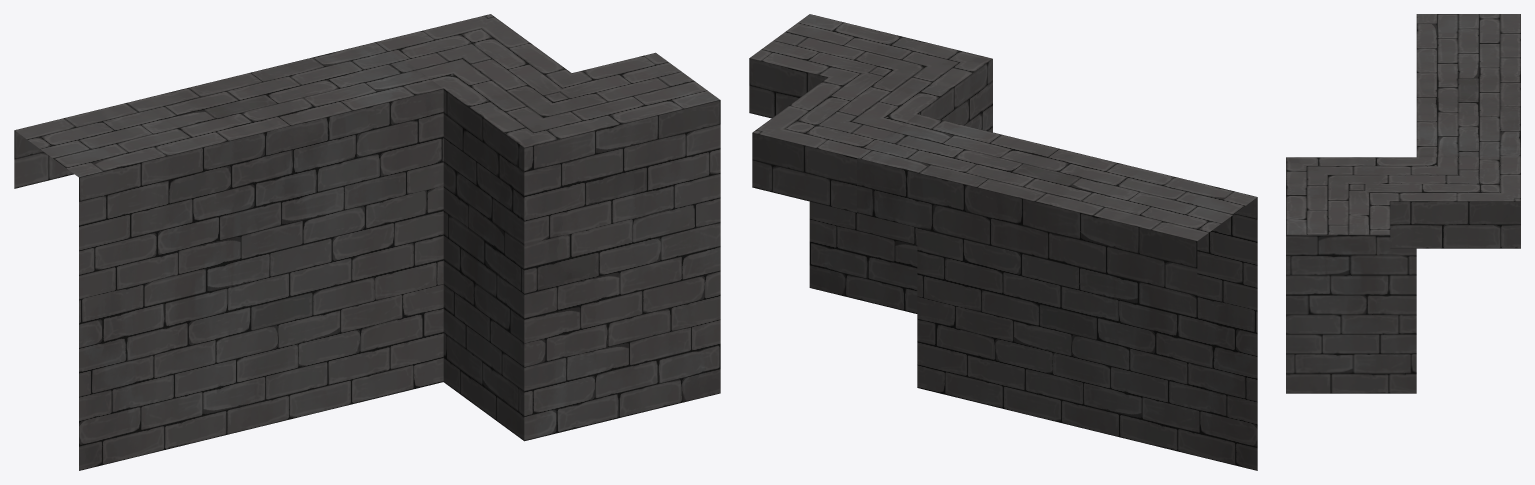
File: Cornice_WornBrick_90Angle_R.gltf
3 renders of one model, left to right at view 1: azimuth 30°, elevation 25°; view 2: azimuth 150°, elevation 25°; view 3: azimuth 270°, elevation 25°, orthographic. The views are drawn at different scales.
Parts seen in each view (by area): view 1: Cornice_WornBrick_90Angle_R; view 2: Cornice_WornBrick_90Angle_R; view 3: Cornice_WornBrick_90Angle_R.
Boxes of the visible parts, left/top/right/bottom form: Cornice_WornBrick_90Angle_R: left=14, top=14, right=720, bottom=470; Cornice_WornBrick_90Angle_R: left=749, top=14, right=1257, bottom=470; Cornice_WornBrick_90Angle_R: left=1286, top=14, right=1520, bottom=393.
Size of the model in its own units: 2 by 1 by 0.9.
Materials: 1 (1 with a texture image).
